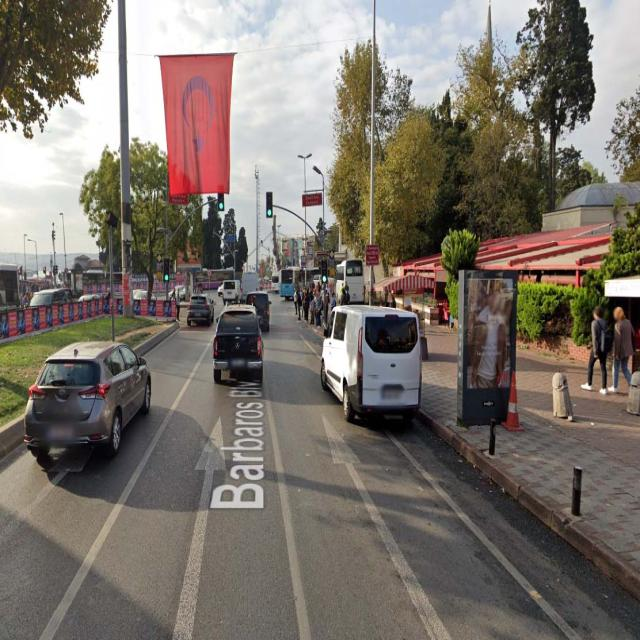yesil: (266, 190, 273, 218), (322, 258, 328, 282), (218, 187, 224, 210), (164, 258, 169, 282)
